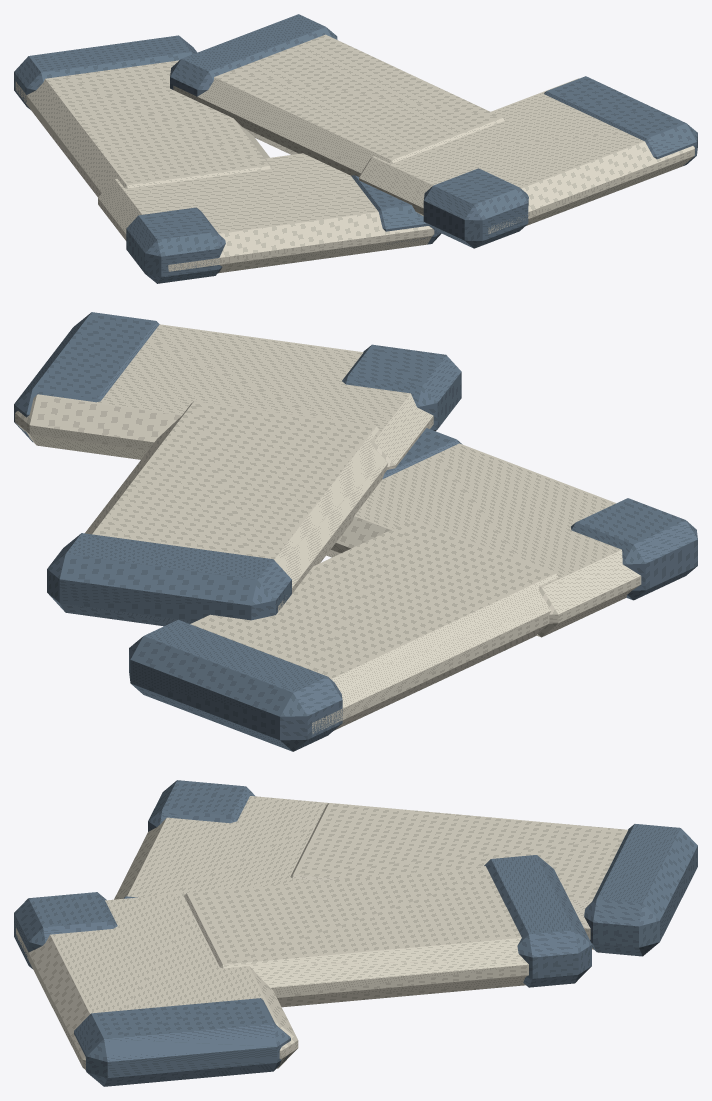
The model's file is socks.glb.
3 renders of one model, top to bottom at view 1: azimuth 30°, elevation 25°; view 2: azimuth 150°, elevation 25°; view 3: azimuth 270°, elevation 25°, orthographic. The views are drawn at different scales.
Parts seen in each view (by area): view 1: block_leg (×2), block_foot (×2), block_heel (×2), block_ribbed cuff (×2), block_toe (×2); view 2: block_leg (×2), block_foot (×2), block_ribbed cuff (×2), block_heel (×2), block_toe (×2); view 3: block_leg (×2), block_foot (×2), block_ribbed cuff (×2), block_toe, block_heel (×2).
Part boxes in pixels (x1=…): block_leg (×2): x1=15, y1=34, x2=504, y2=196; block_foot (×2): x1=98, y1=78, x2=694, y2=273; block_heel (×2): x1=126, y1=168, x2=528, y2=283; block_ribbed cuff (×2): x1=14, y1=14, x2=337, y2=109; block_toe (×2): x1=351, y1=76, x2=697, y2=244; block_leg (×2): x1=85, y1=401, x2=558, y2=733; block_foot (×2): x1=15, y1=324, x2=641, y2=637; block_ribbed cuff (×2): x1=47, y1=533, x2=342, y2=751; block_heel (×2): x1=342, y1=344, x2=697, y2=600; block_toe (×2): x1=14, y1=312, x2=462, y2=479; block_leg (×2): x1=184, y1=803, x2=627, y2=1007; block_foot (×2): x1=16, y1=796, x2=328, y2=1069; block_ribbed cuff (×2): x1=484, y1=824, x2=697, y2=987; block_toe: x1=74, y1=998, x2=290, y2=1086; block_heel (×2): x1=14, y1=780, x2=255, y2=968.
Size of the model in its own units: 0.2362 by 0.029 by 0.2327.
1 material, 1 textured.
